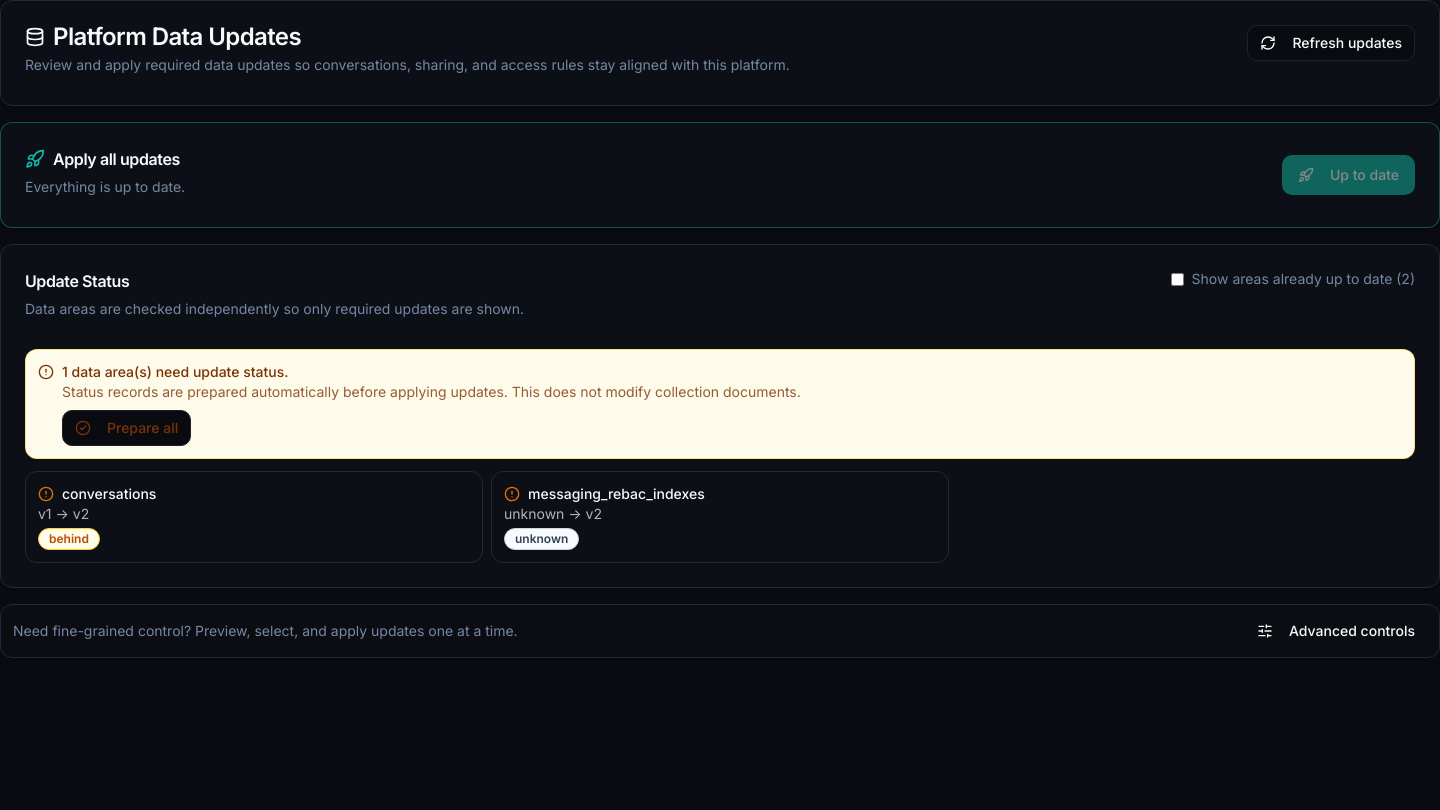
Scenario: MigrationTab › shows only collections needing migration by default and marks unknown targeted areas amber
Expected: the text "conversations" is shown, [62, 484, 156, 504]
Expected: the text "conversation_bookmarks" is not shown
What coordinates should you click on to do the following:
click the checkbox labelled "Show areas already up to date (2)"
I would click on:
 (1177, 279)
Its box is [1171, 272, 1184, 286].
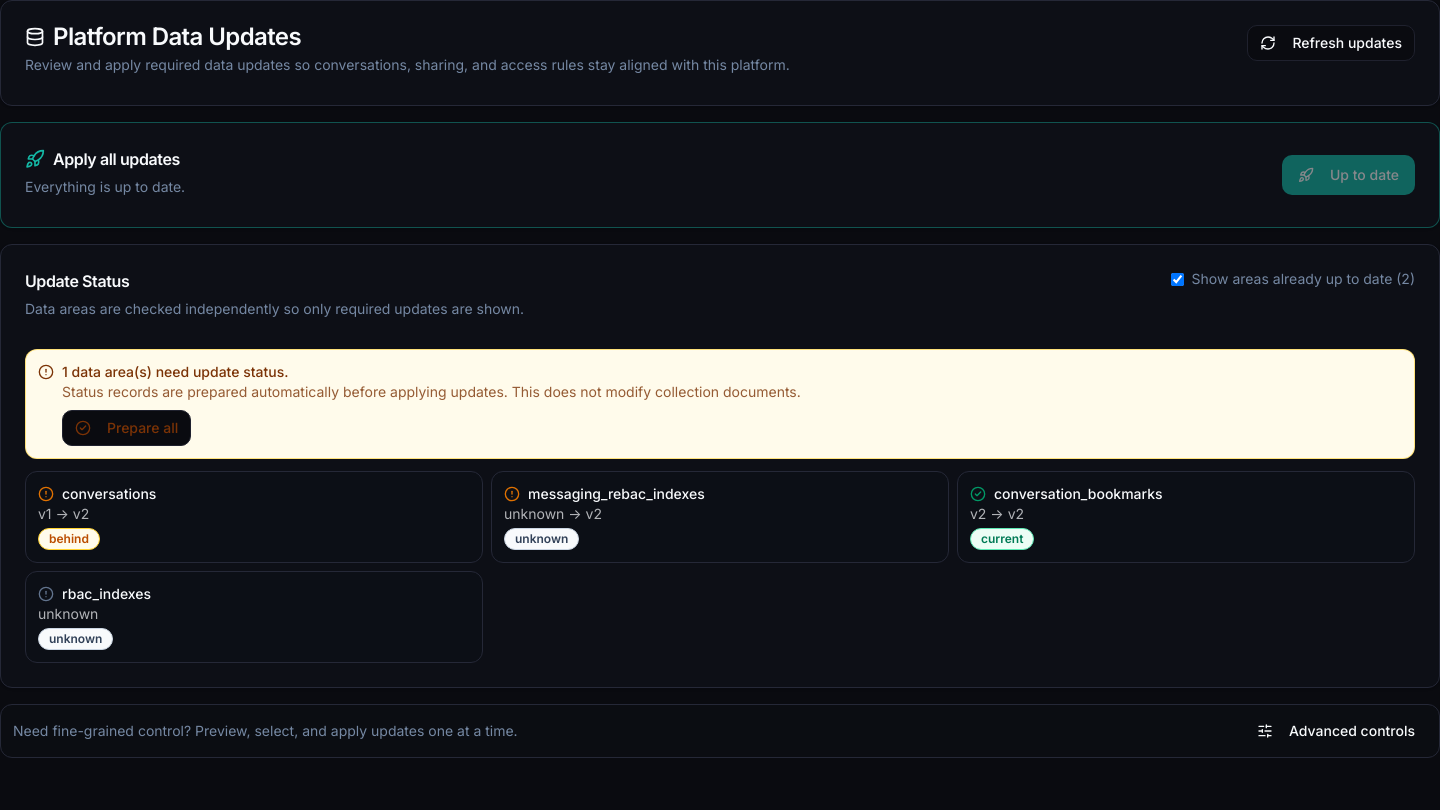
Expected: the text "conversation_bookmarks" is shown, [994, 484, 1163, 504]
Expected: the text "rbac_indexes" is shown, [62, 584, 151, 604]
